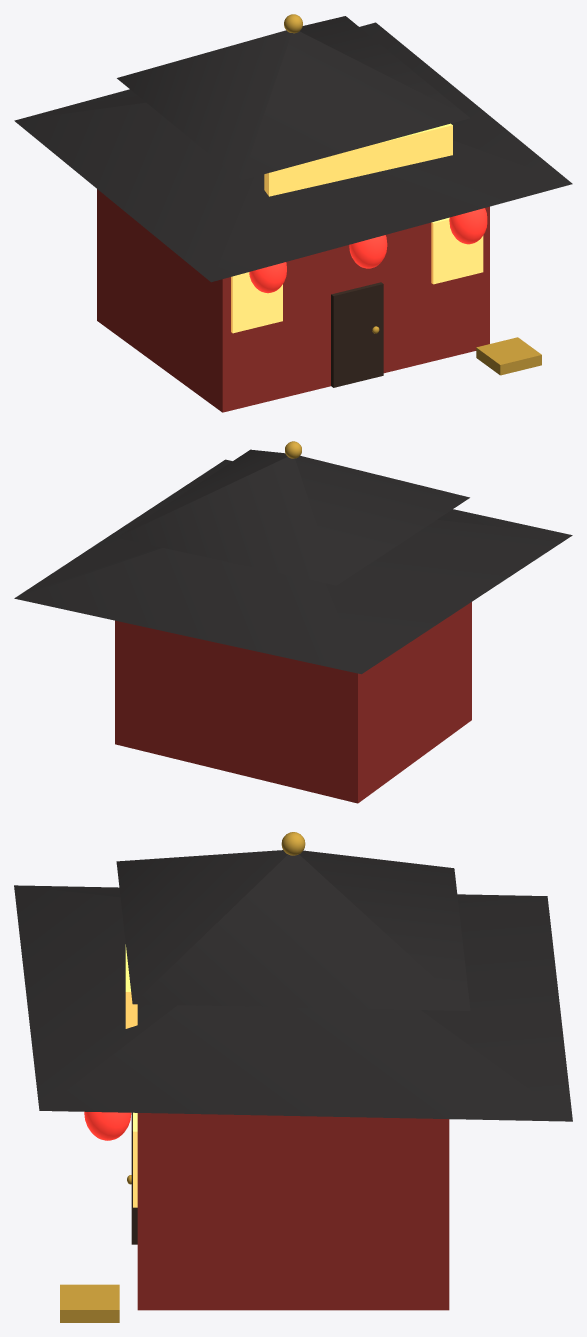
File: biz_food.glb
3 renders of one model, top to bottom at view 1: azimuth 30°, elevation 25°; view 2: azimuth 150°, elevation 25°; view 3: azimuth 270°, elevation 25°, orthographic. The views are drawn at different scales.
Size of the model in its own units: 4.67 by 3.65 by 4.67.
